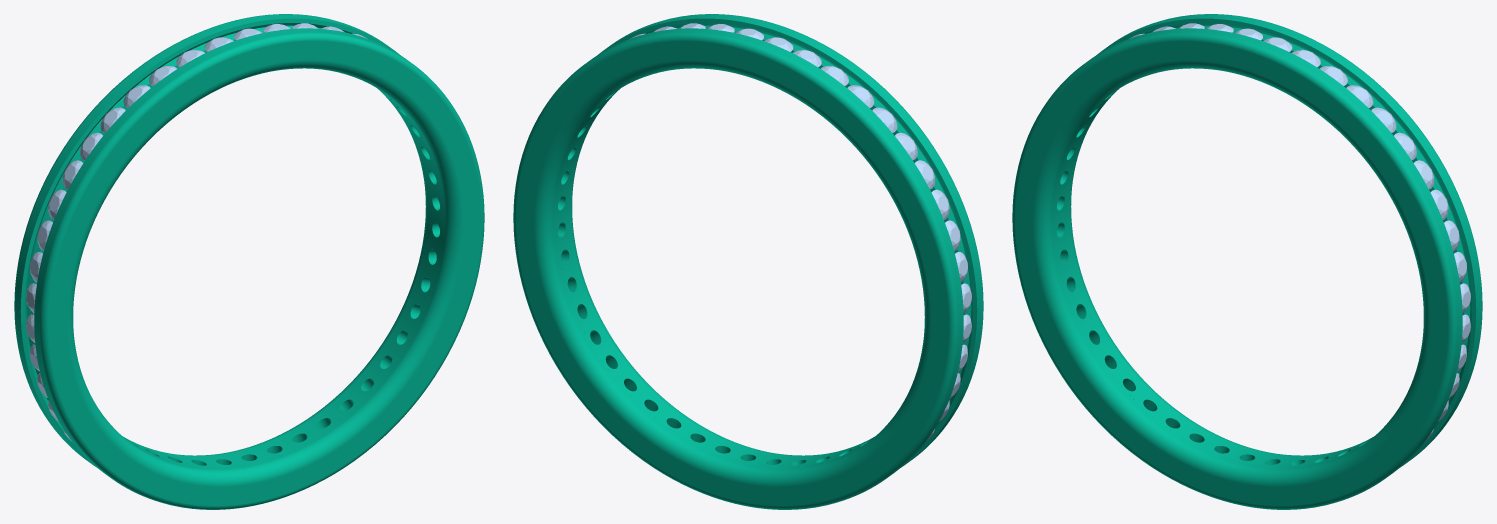
The picture shows the model from 3 angles, left to right: view 1: azimuth 30°, elevation 25°; view 2: azimuth 150°, elevation 25°; view 3: azimuth 330°, elevation 25°; orthographic projection.
Visible parts, largest first — view 1: VR CHANNEL SIZE S 2.5 MM .50 CRT FULL(front).3dm; view 2: VR CHANNEL SIZE S 2.5 MM .50 CRT FULL(front).3dm; view 3: VR CHANNEL SIZE S 2.5 MM .50 CRT FULL(front).3dm.
Part boxes in pixels (box(x1,y1,x2,y2)): VR CHANNEL SIZE S 2.5 MM .50 CRT FULL(front).3dm: box(14, 14, 484, 509); VR CHANNEL SIZE S 2.5 MM .50 CRT FULL(front).3dm: box(513, 14, 983, 509); VR CHANNEL SIZE S 2.5 MM .50 CRT FULL(front).3dm: box(1012, 14, 1482, 509).
Size of the model in its own units: 2.82 by 2.82 by 0.3445.
